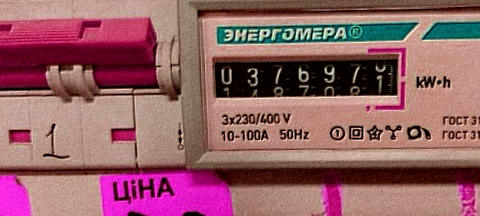0: (218, 63, 235, 85)
1: (374, 73, 386, 94)
3: (245, 65, 260, 88)
6: (297, 61, 310, 82)
7: (271, 61, 285, 85), (348, 60, 362, 84)
9: (322, 61, 336, 84)
screen: (205, 44, 410, 118)
